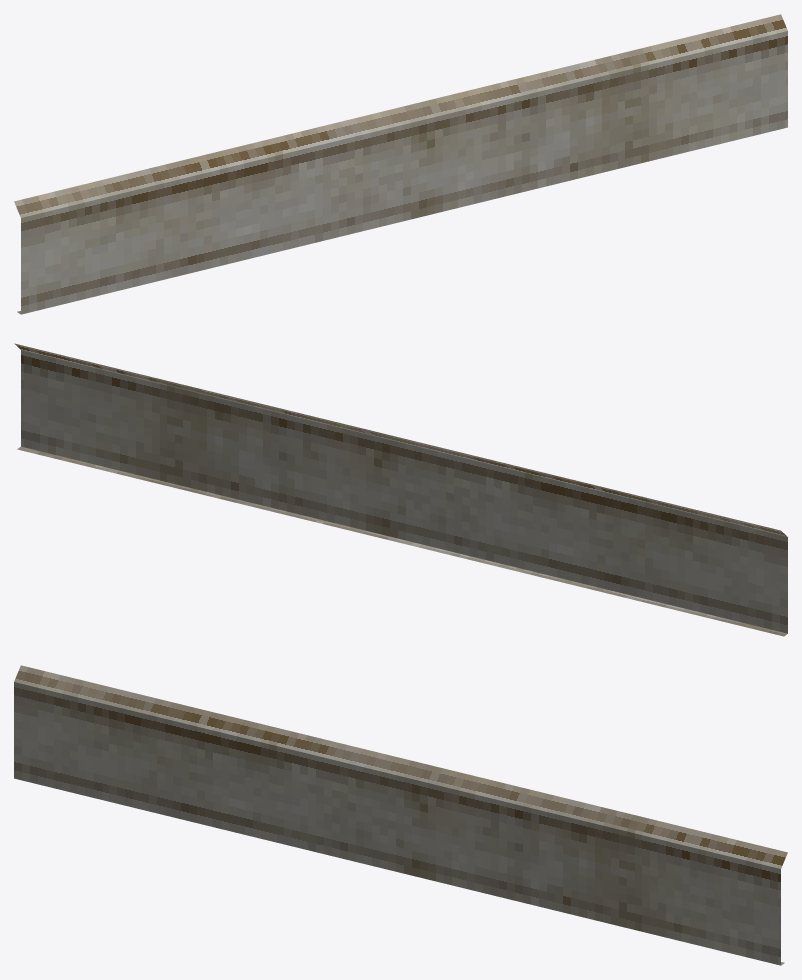
The model's file is WallBorder03.glb.
3 views of the same model, one above another, from view 1: azimuth 30°, elevation 25°; view 2: azimuth 150°, elevation 25°; view 3: azimuth 330°, elevation 25° (orthographic).
Visible parts, largest first — view 1: WallBorder03; view 2: WallBorder03; view 3: WallBorder03.
Part boxes in pixels (x1,y1,x2,y2): WallBorder03: (14,14,787,314); WallBorder03: (14,343,787,636); WallBorder03: (14,665,787,965).
Bounding box in the file's own units: 1.13 × 0.1523 × 0.0176.
Materials: 1 (1 with a texture image).
